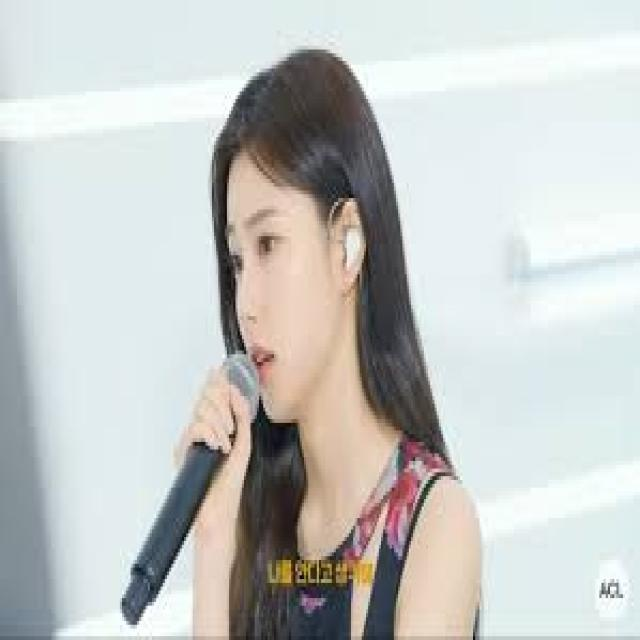earphone: (335, 218, 370, 292)
